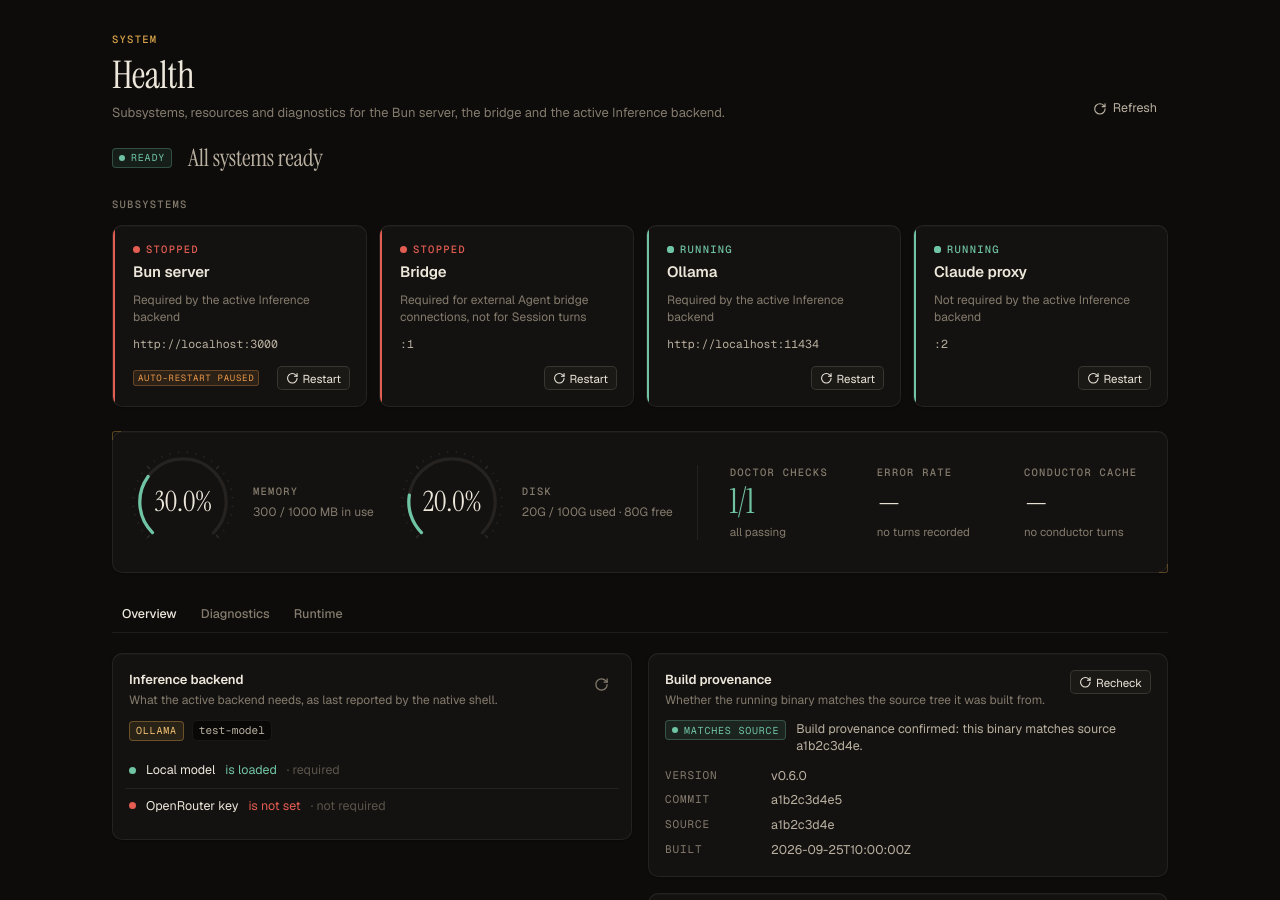
Test: ignores obsolete success after a post-restart refresh
The width and height of the screenshot is (1280, 900).
Expected: the button with aria-label "Restart Bun server" is shown, [277,366,350,390]
Click the tab "Diagnostics" at (235, 615), box [191,597,280,633]
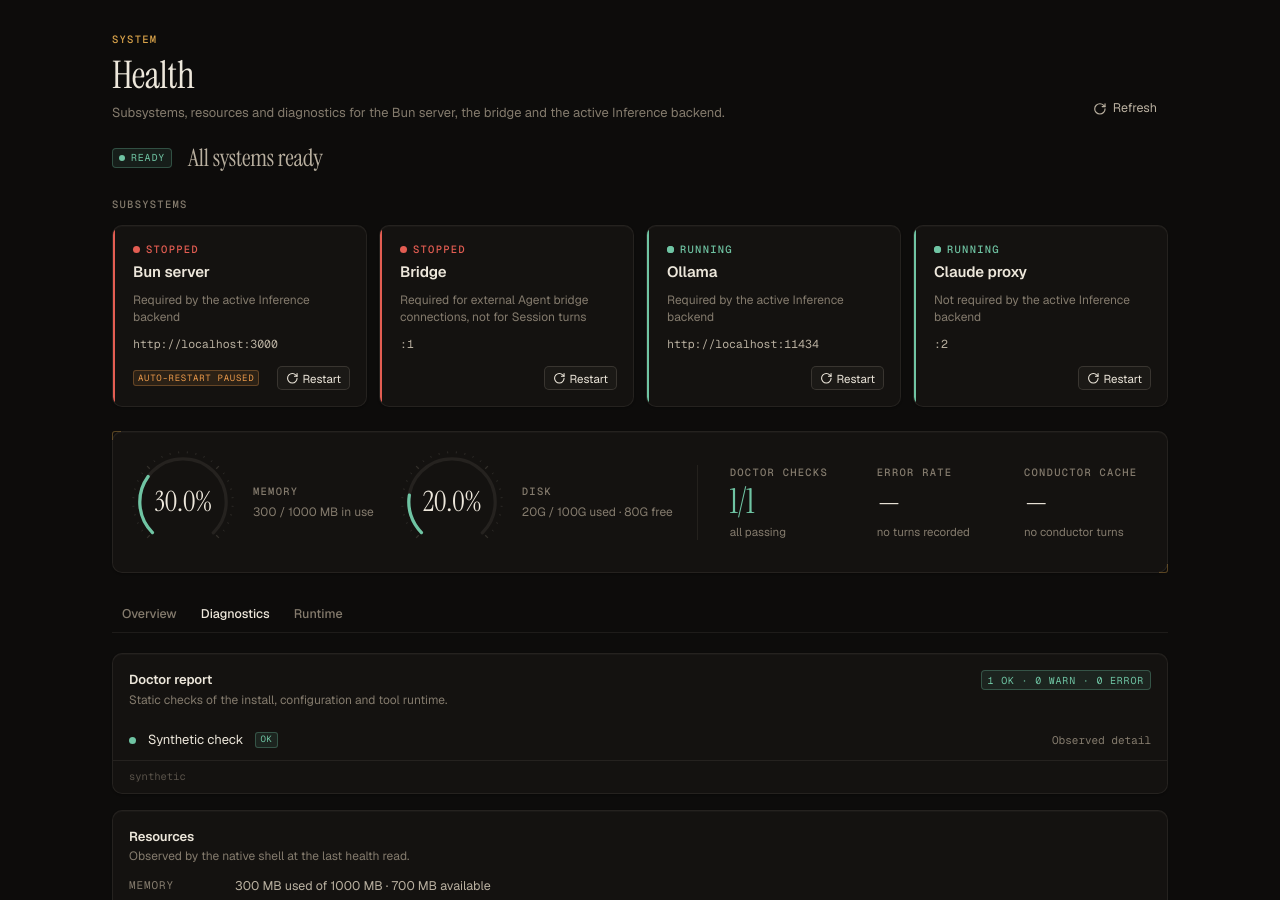
Click the button "Refresh" at (1125, 109), box [1082,95,1168,123]
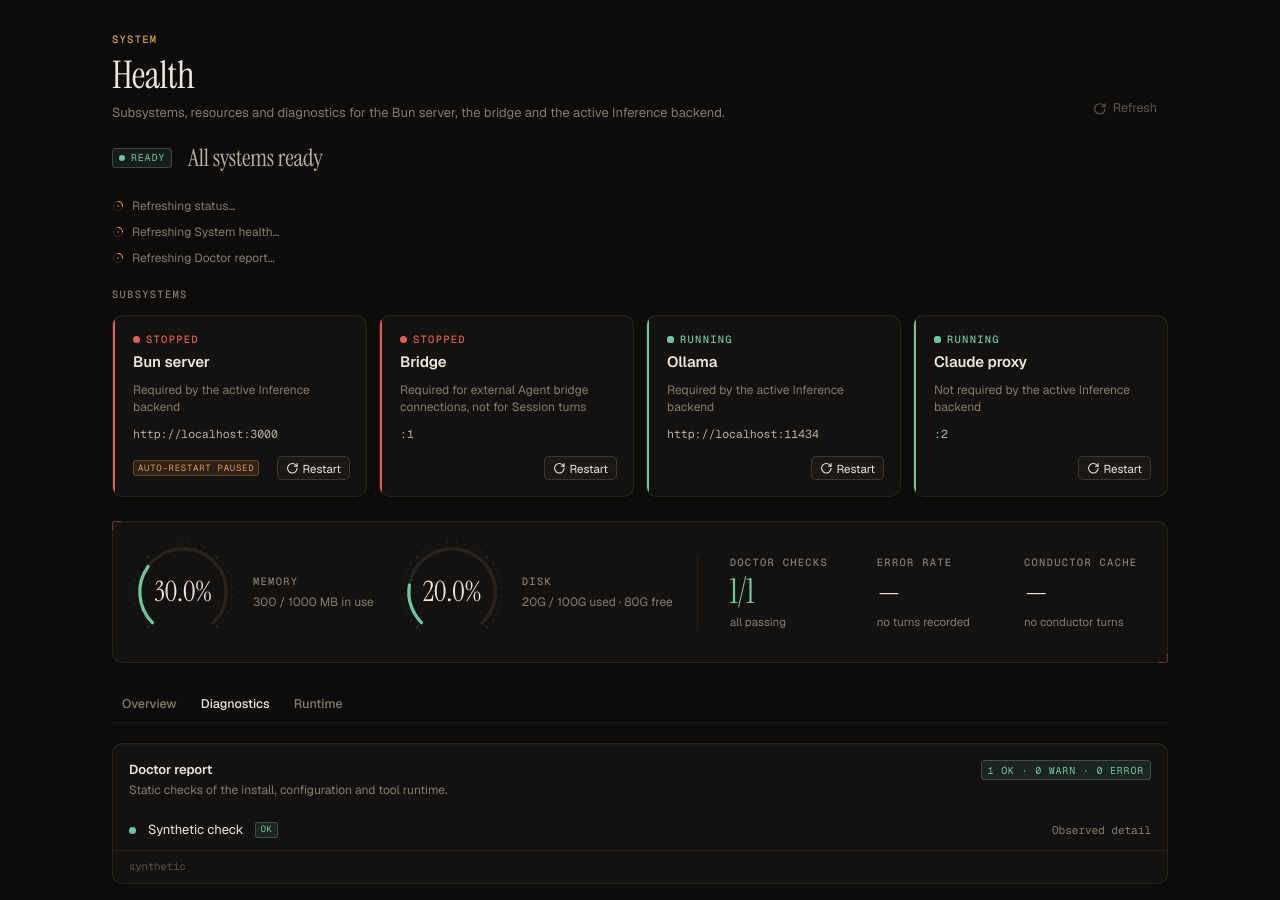
Expected: the button "Refresh" is disabled, [1082,95,1168,123]
Click the button with aria-label "Restart Bun server" at (313, 468), box [277,456,350,480]
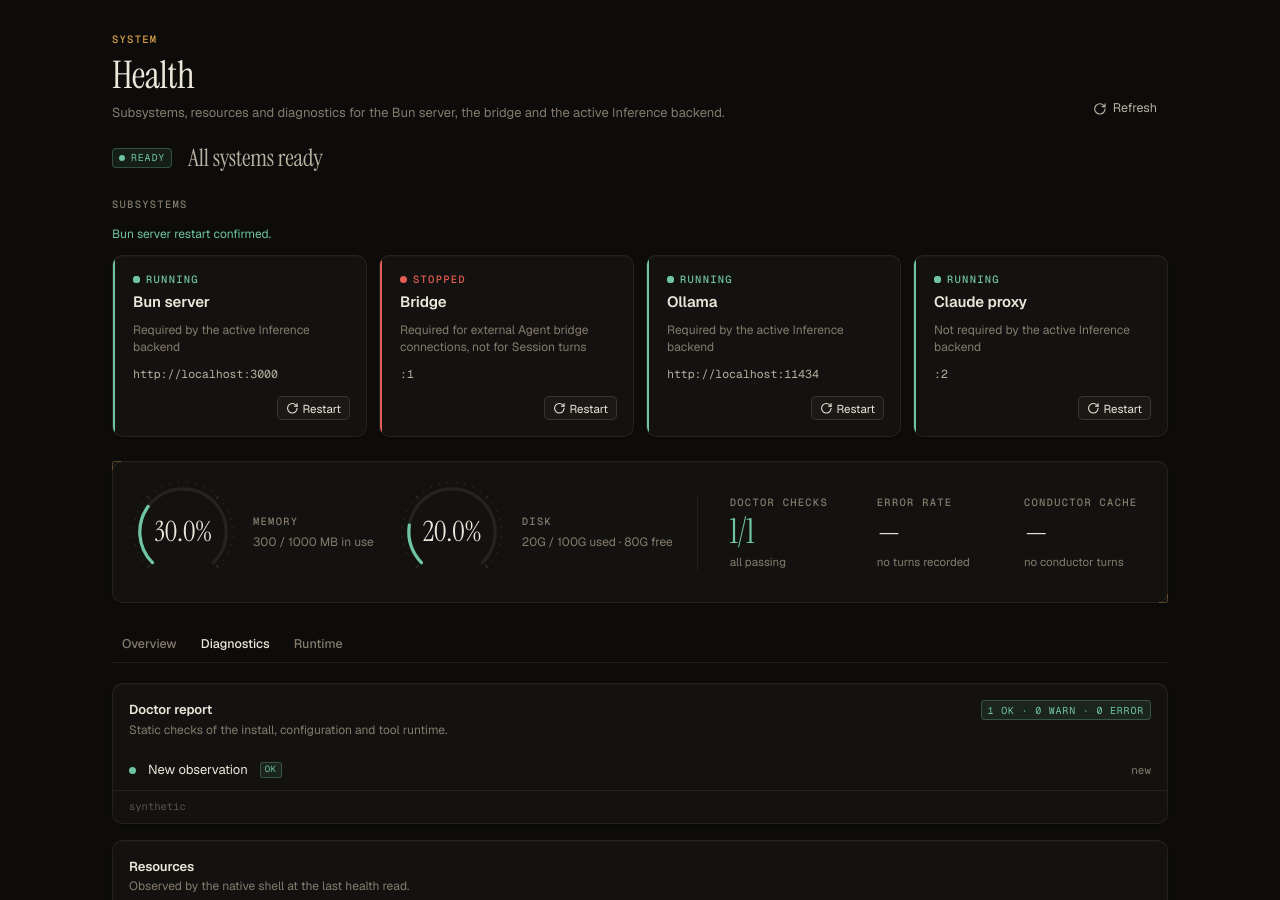
Expected: the text "New observation" is shown, [148,760,248,780]
Expected: the message "Refreshing status…" is gone
